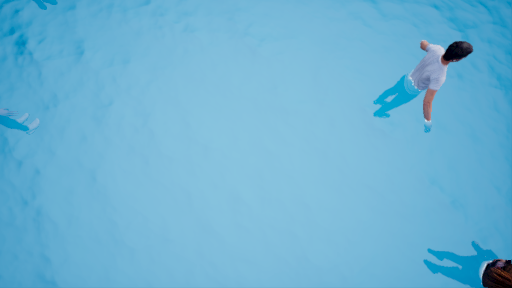person: (377, 34, 472, 144)
